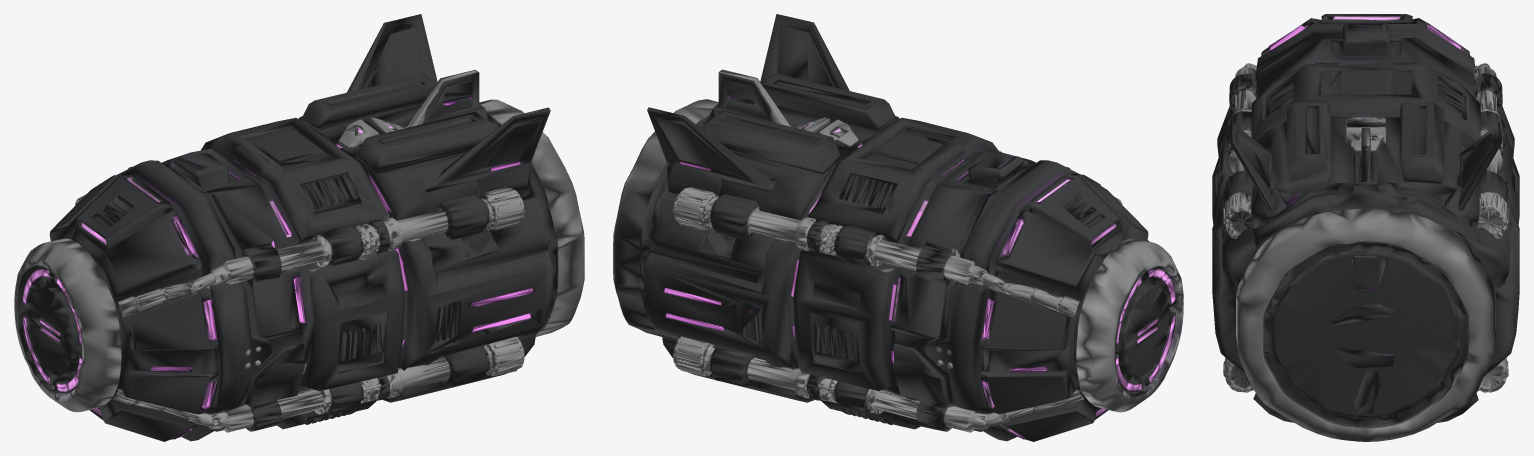
File: dune_devourer_hull.glb
3 renders of one model, left to right at view 1: azimuth 30°, elevation 25°; view 2: azimuth 150°, elevation 25°; view 3: azimuth 270°, elevation 25°, orthographic. The views are drawn at different scales.
Parts seen in each view (by area): view 1: dune_devourer_hull; view 2: dune_devourer_hull; view 3: dune_devourer_hull.
Boxes of the visible parts, bbox=[...] form: dune_devourer_hull: bbox=[14, 14, 584, 441]; dune_devourer_hull: bbox=[613, 14, 1183, 441]; dune_devourer_hull: bbox=[1212, 14, 1519, 441].
Size of the model in its own units: 2.35 by 1.36 by 1.25.
1 material, 1 textured.
